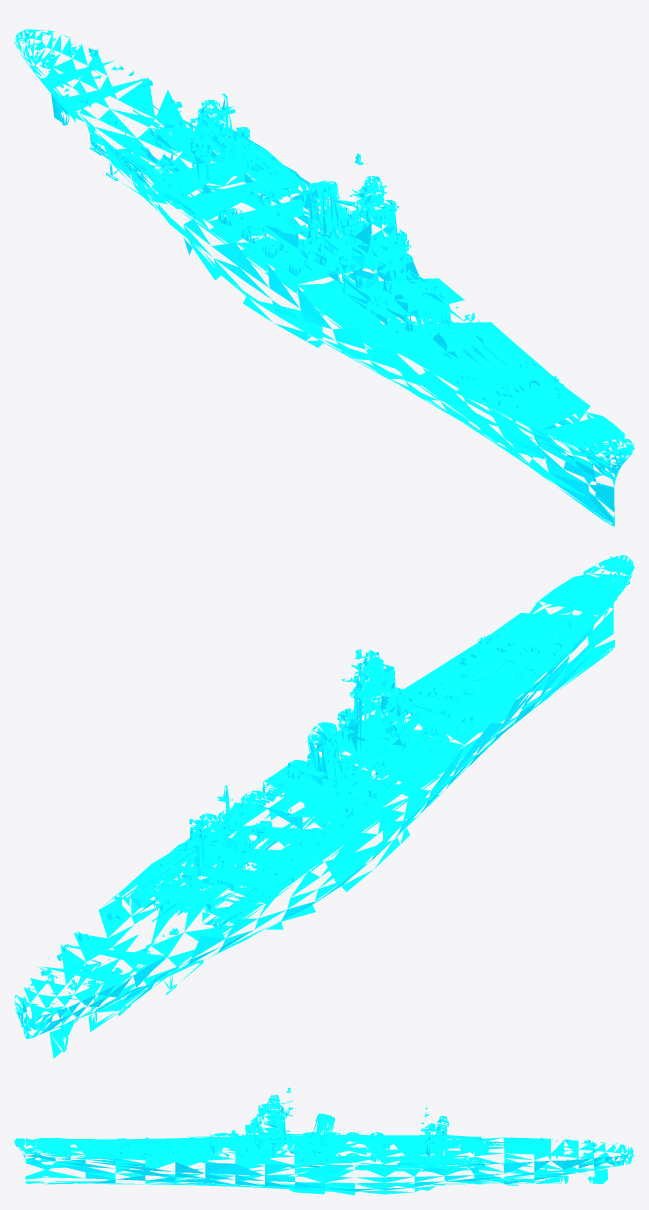
File: Yoshino.glb
The picture shows the model from 3 angles, top to bottom: view 1: azimuth 30°, elevation 25°; view 2: azimuth 150°, elevation 25°; view 3: azimuth 270°, elevation 25°; orthographic projection. The views are drawn at different scales.
Size of the model in its own units: 1.98 by 2.96 by 17.3.
